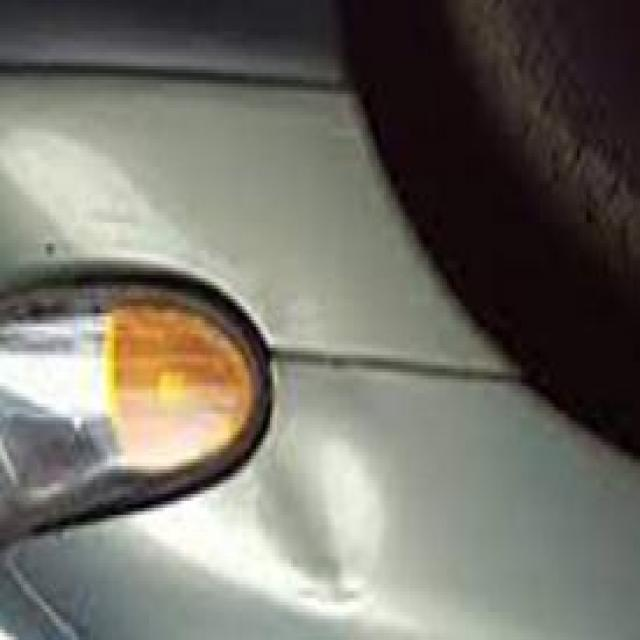dent: (236, 379, 411, 640)
